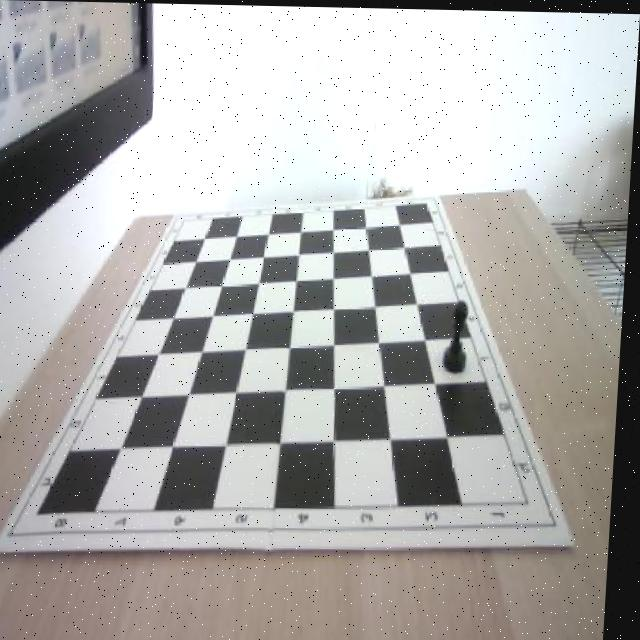black-knight: (445, 299, 474, 373)
